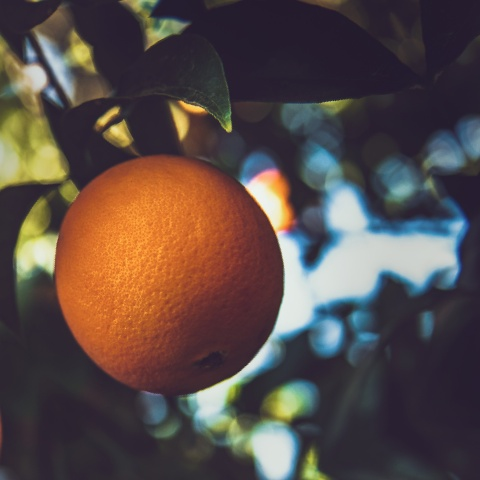orange: (0, 89, 371, 452)
